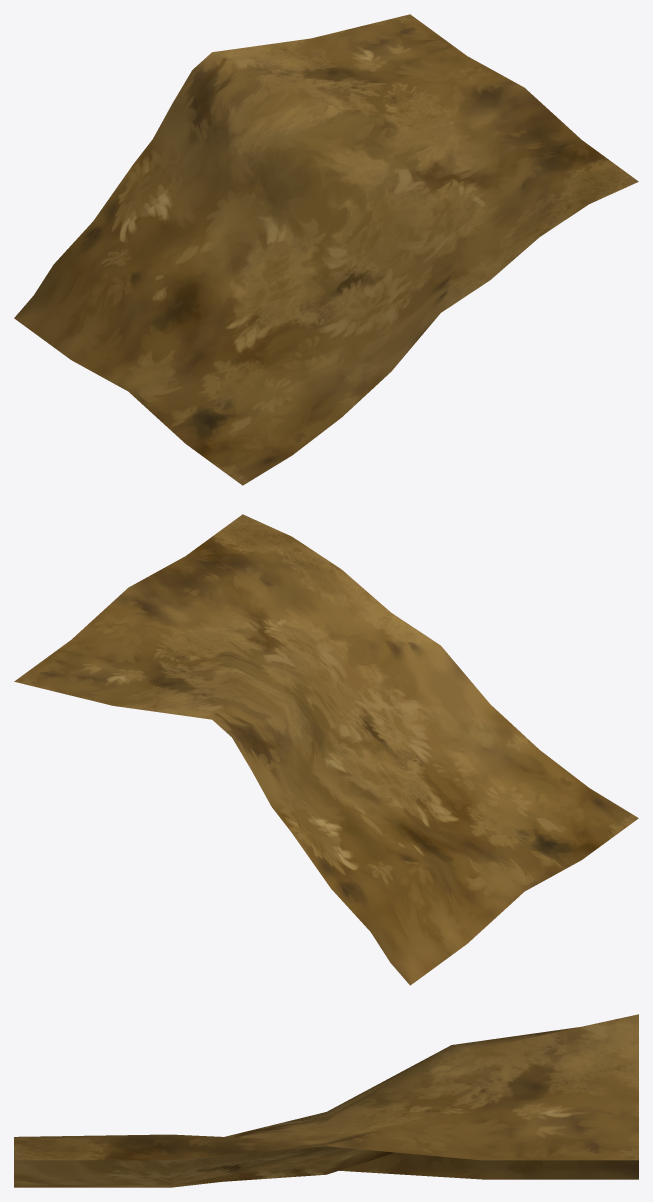
File: Slope_Level_002.fbx
3 views of the same model, one above another, from view 1: azimuth 30°, elevation 25°; view 2: azimuth 150°, elevation 25°; view 3: azimuth 270°, elevation 25° (orthographic). The views are drawn at different scales.
Visible parts, largest first — view 1: Slope_Level_002; view 2: Slope_Level_002; view 3: Slope_Level_002.
Boxes of the visible parts, <box> form: Slope_Level_002: <box>14,14,638,485</box>; Slope_Level_002: <box>14,514,638,985</box>; Slope_Level_002: <box>14,1014,638,1187</box>.
Size of the model in its own units: 10 by 5.25 by 10.
Materials: 1 (1 with a texture image).
